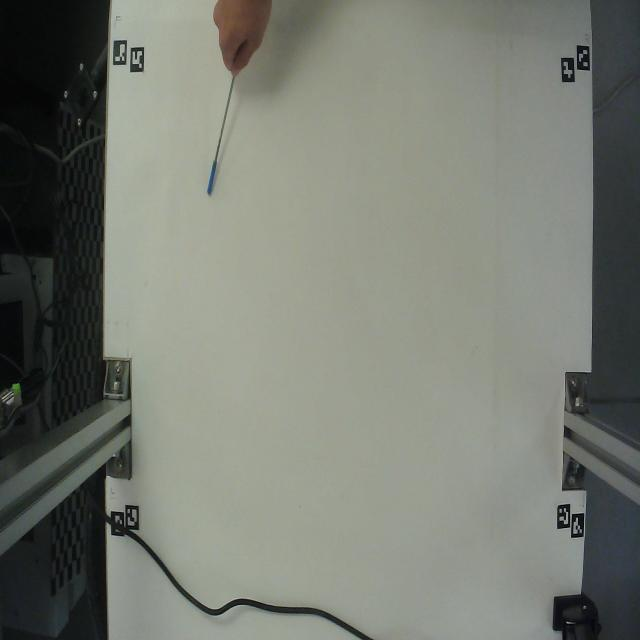Pres: (205, 75, 242, 204)
